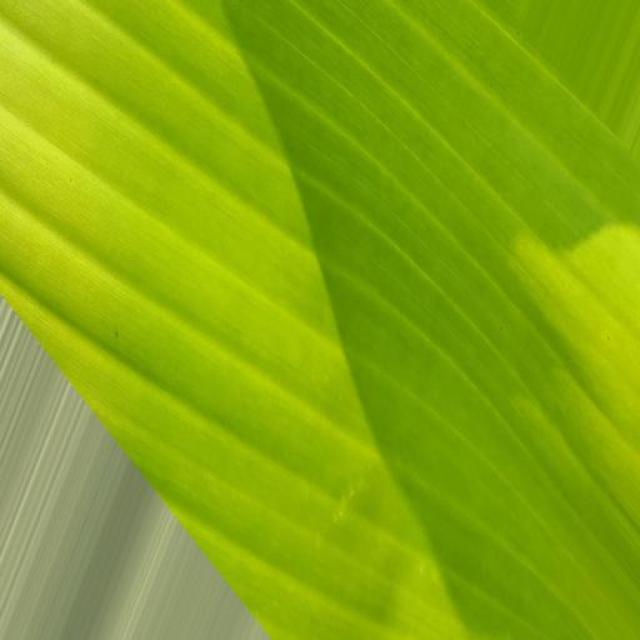Black_leaf_spot: (0, 0, 574, 595)
